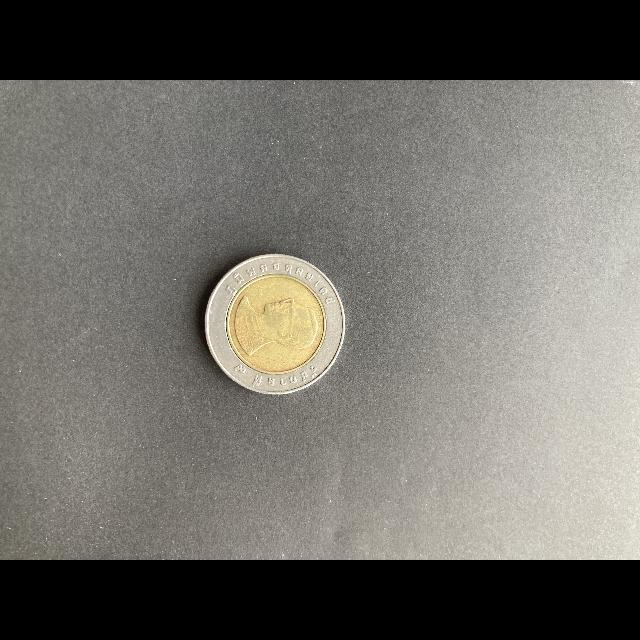10 Bath: (203, 252, 350, 400)
